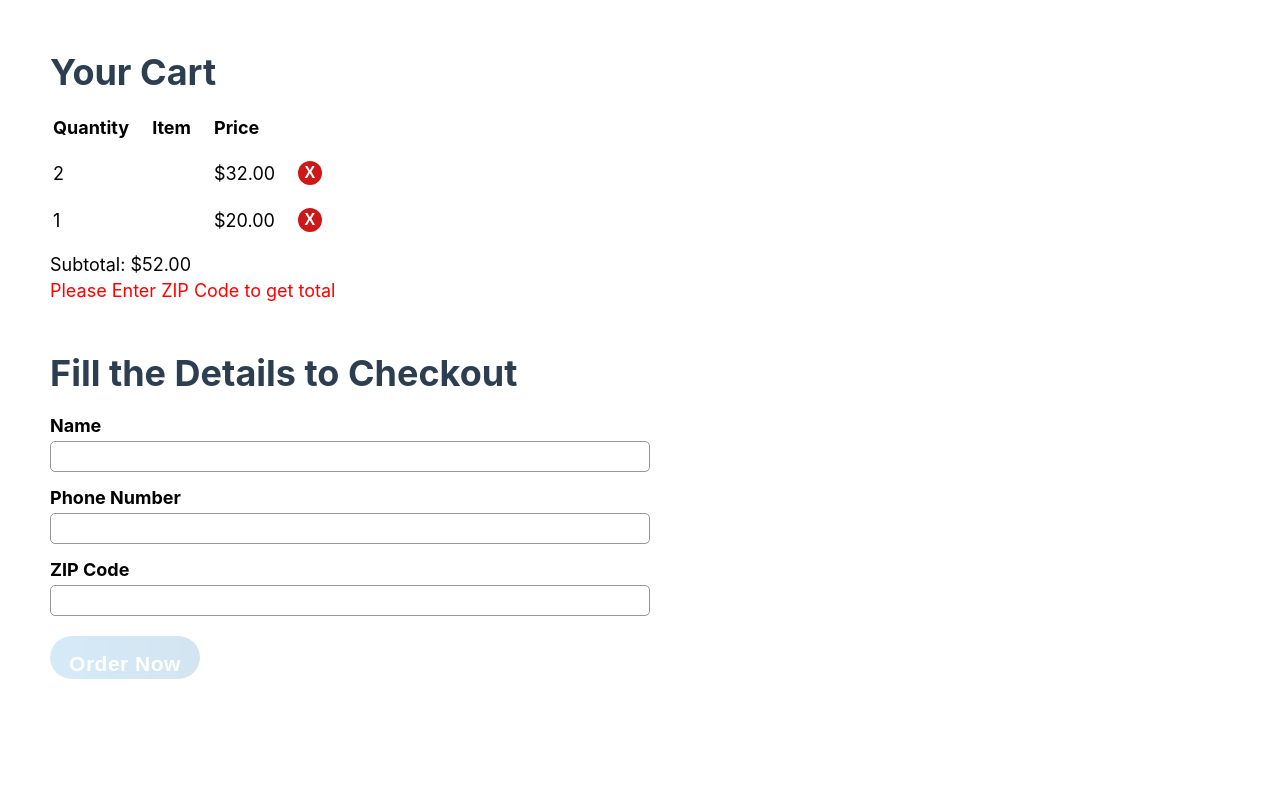
Cart Component › submits order successfully
Type "John" into the field labelled "Name" at [350, 456], box left=50, top=441, right=650, bottom=472
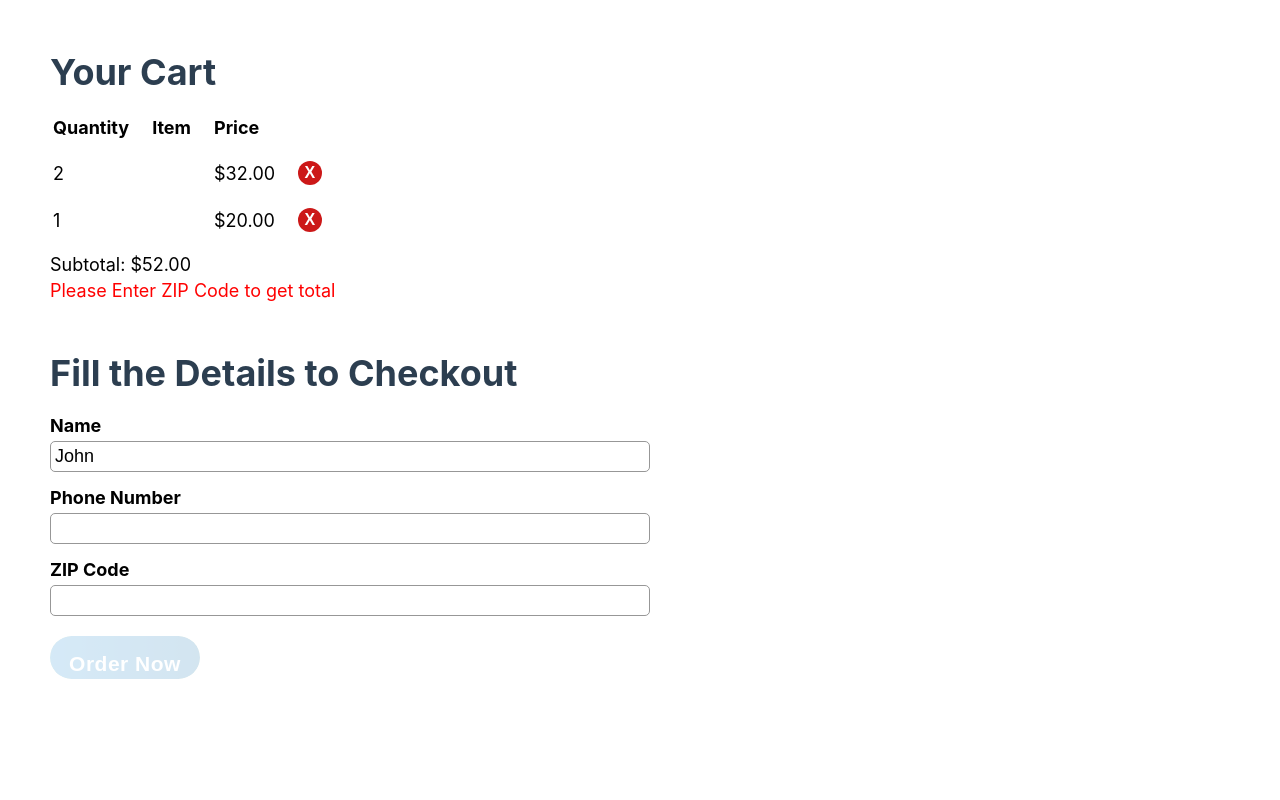
Type "1234567890" into the field labelled "Phone Number" at [350, 528], box left=50, top=513, right=650, bottom=544
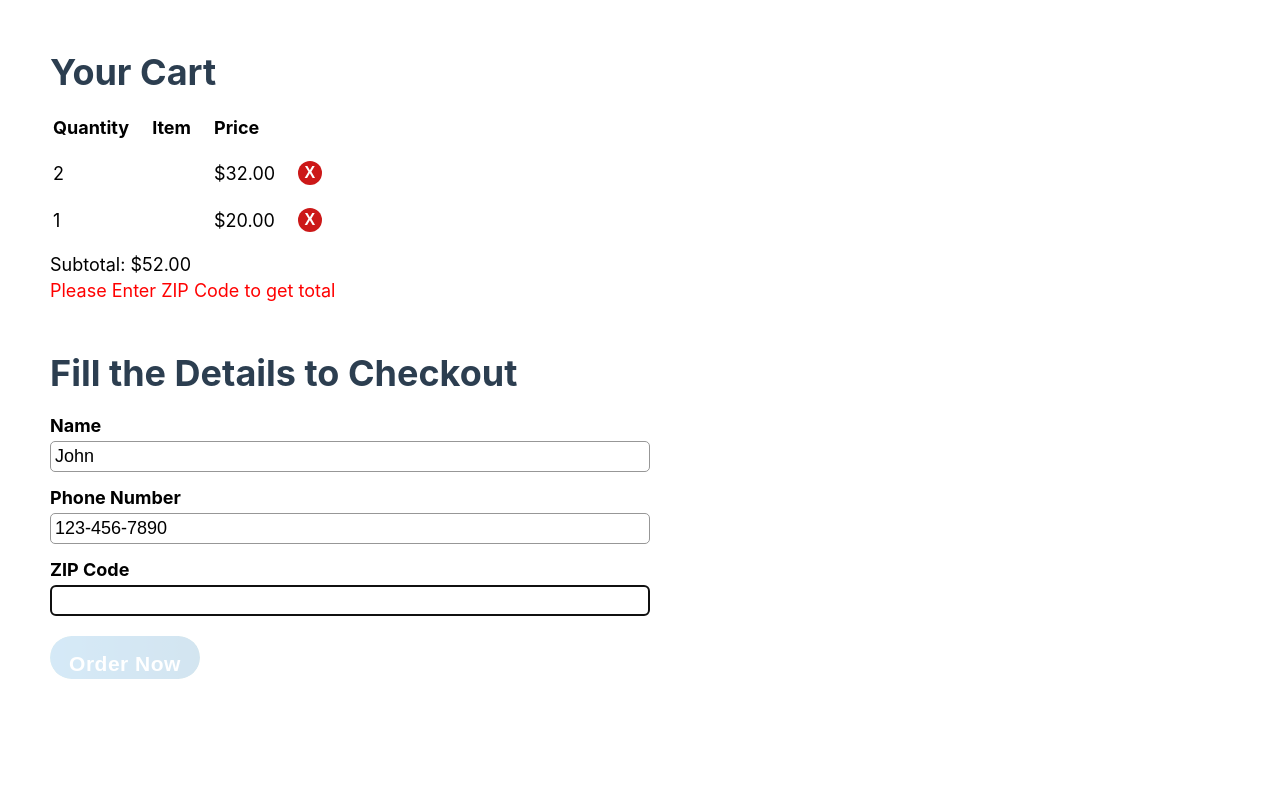
Type "12345" into the field labelled "ZIP Code" at [350, 600], box left=50, top=585, right=650, bottom=616
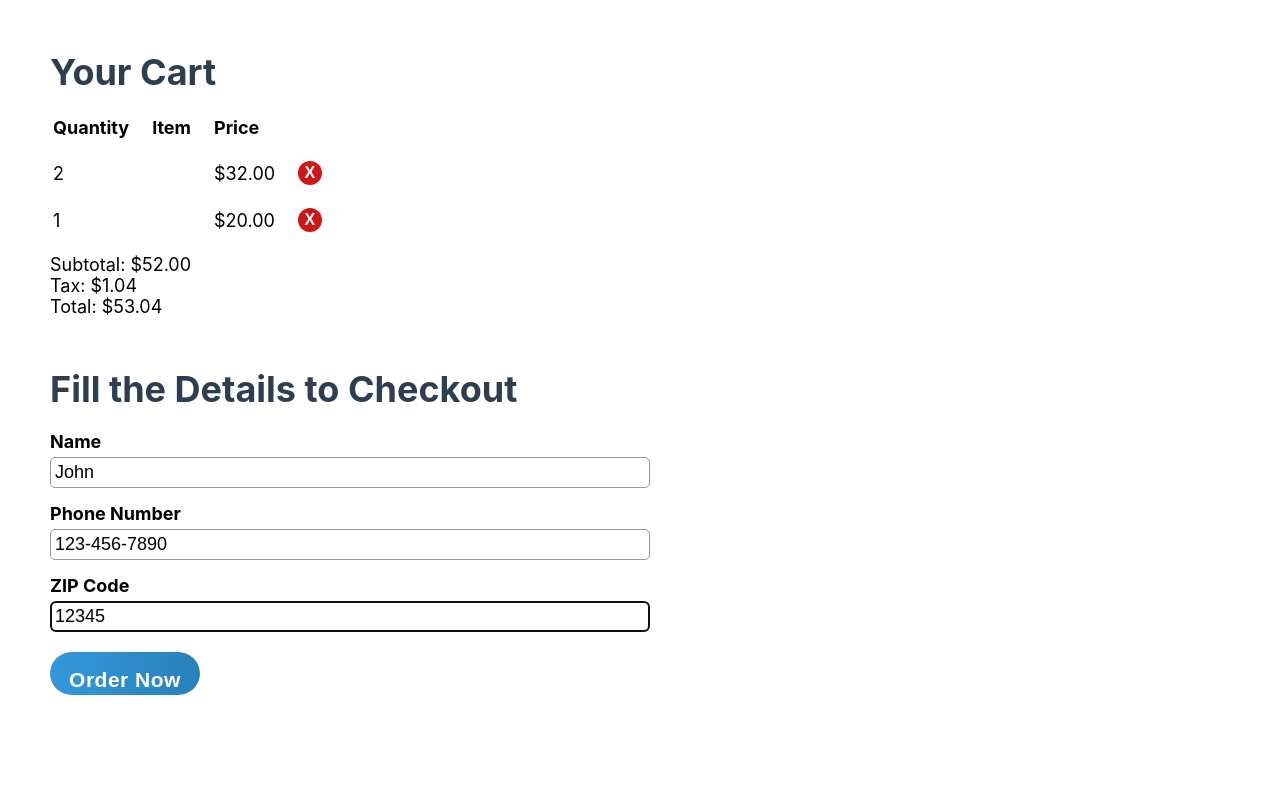
Click the button "Order Now" at [125, 674], box left=50, top=652, right=200, bottom=695
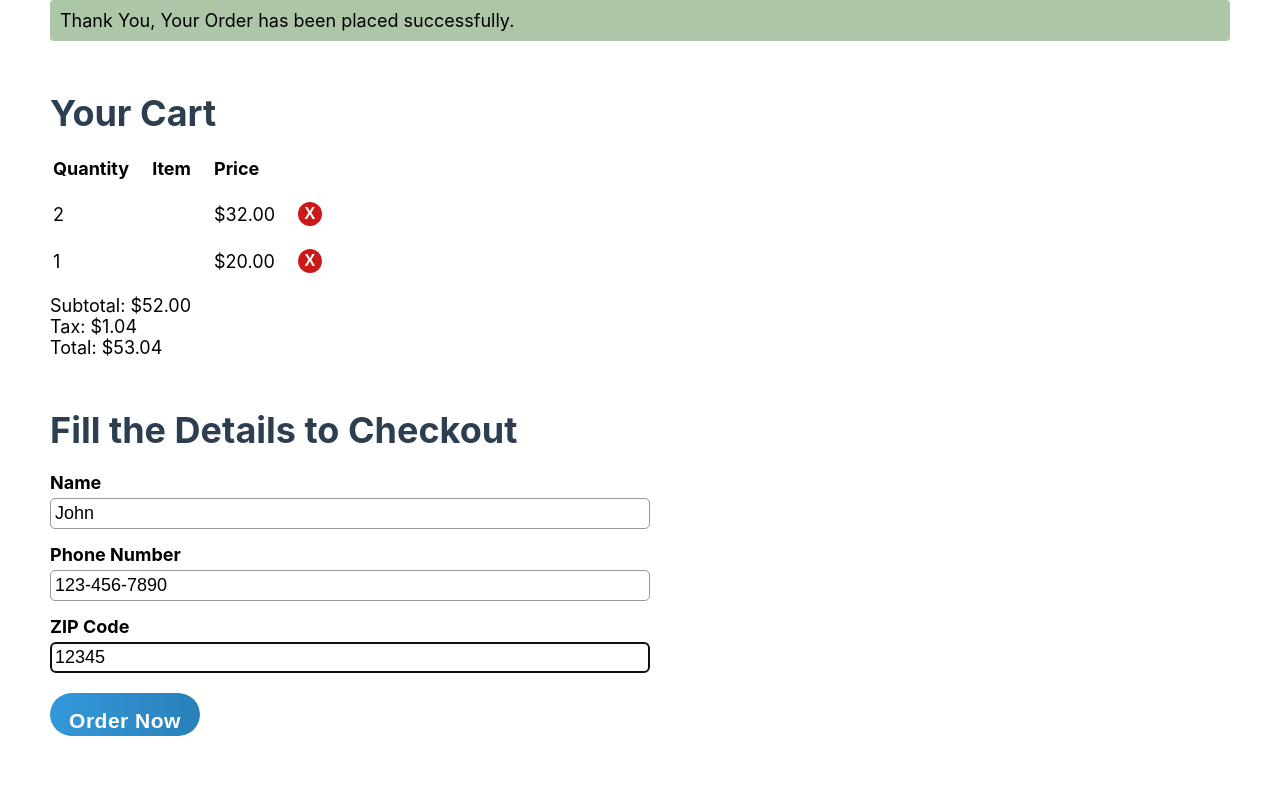
Now the text "Thank You, Your Order has been placed successfully." is shown, box left=50, top=0, right=1230, bottom=41
